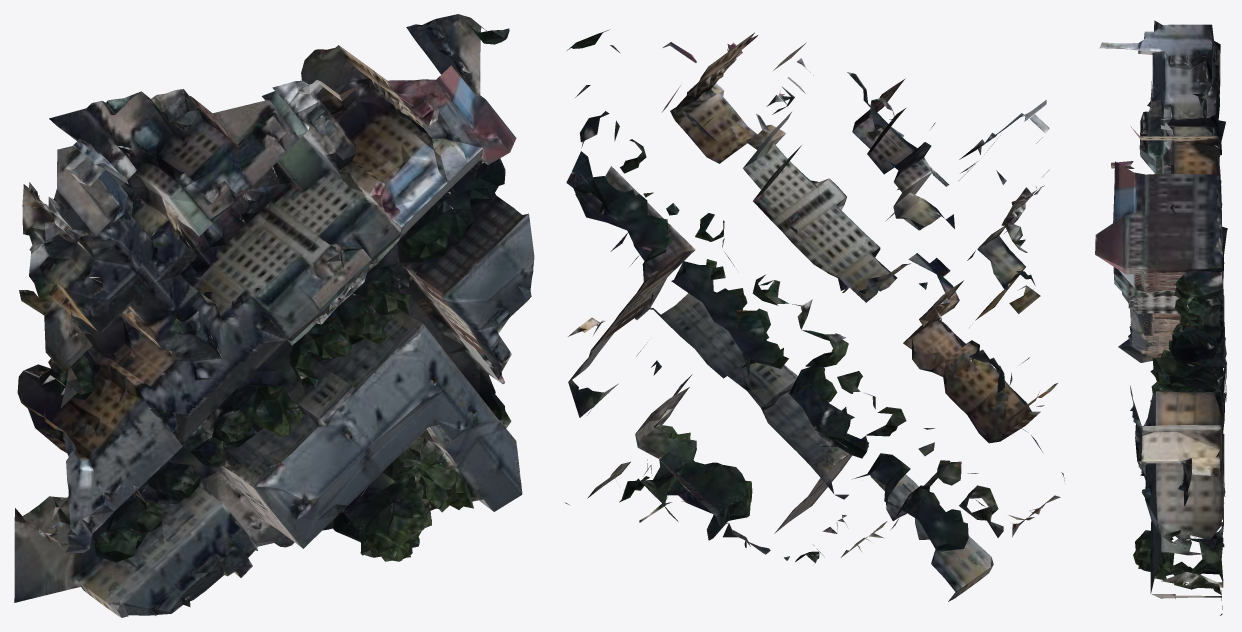
File: Tile_+033_+018_L17_0002.glb
The picture shows the model from 3 angles, left to right: view 1: azimuth 30°, elevation 25°; view 2: azimuth 150°, elevation 25°; view 3: azimuth 270°, elevation 25°; orthographic projection. The views are drawn at different scales.
Size of the model in its own units: 126 by 126 by 36.83.
Materials: 1 (1 with a texture image).
